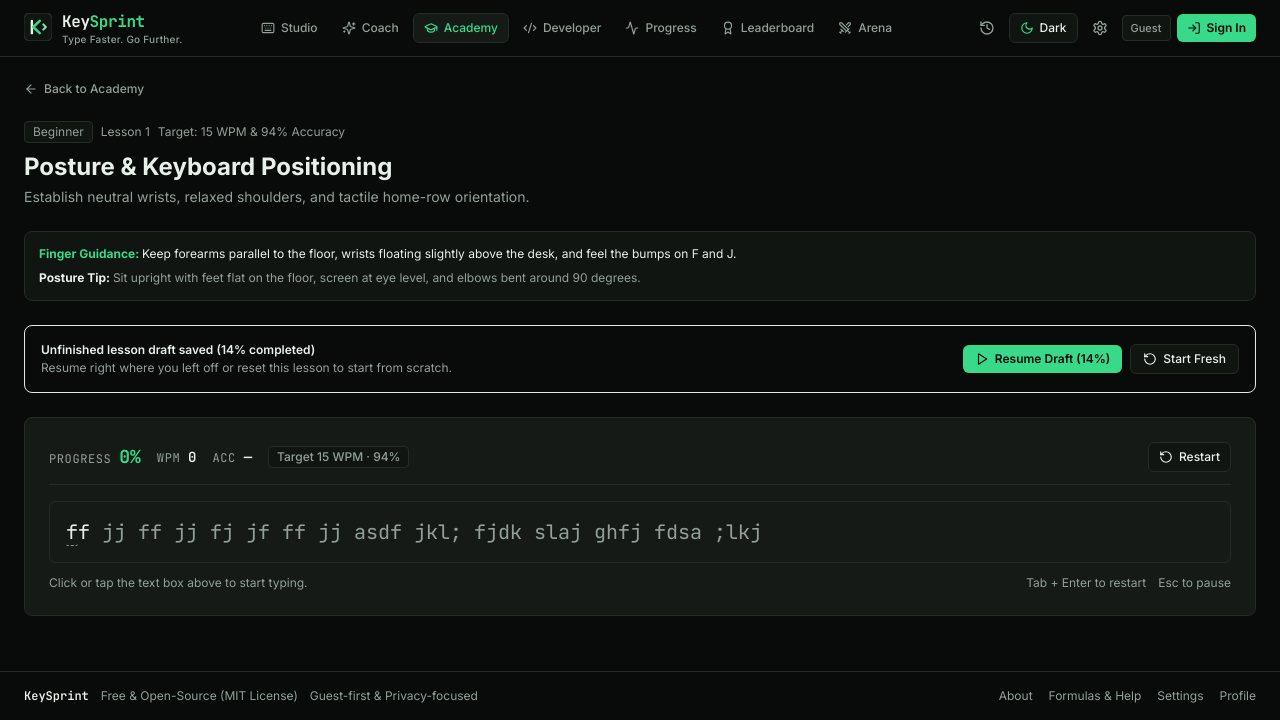
Test: Phase 4: Academy, Coach, Goals & Progress Intelligence › clears saved draft when clicking Start Fresh
Expected: the text "Unfinished lesson draft saved (14% completed)" is shown, x1=41 y1=342 x2=315 y2=357
Click the button "Start Fresh": point(1185, 359) x1=1130 y1=344 x2=1239 y2=374
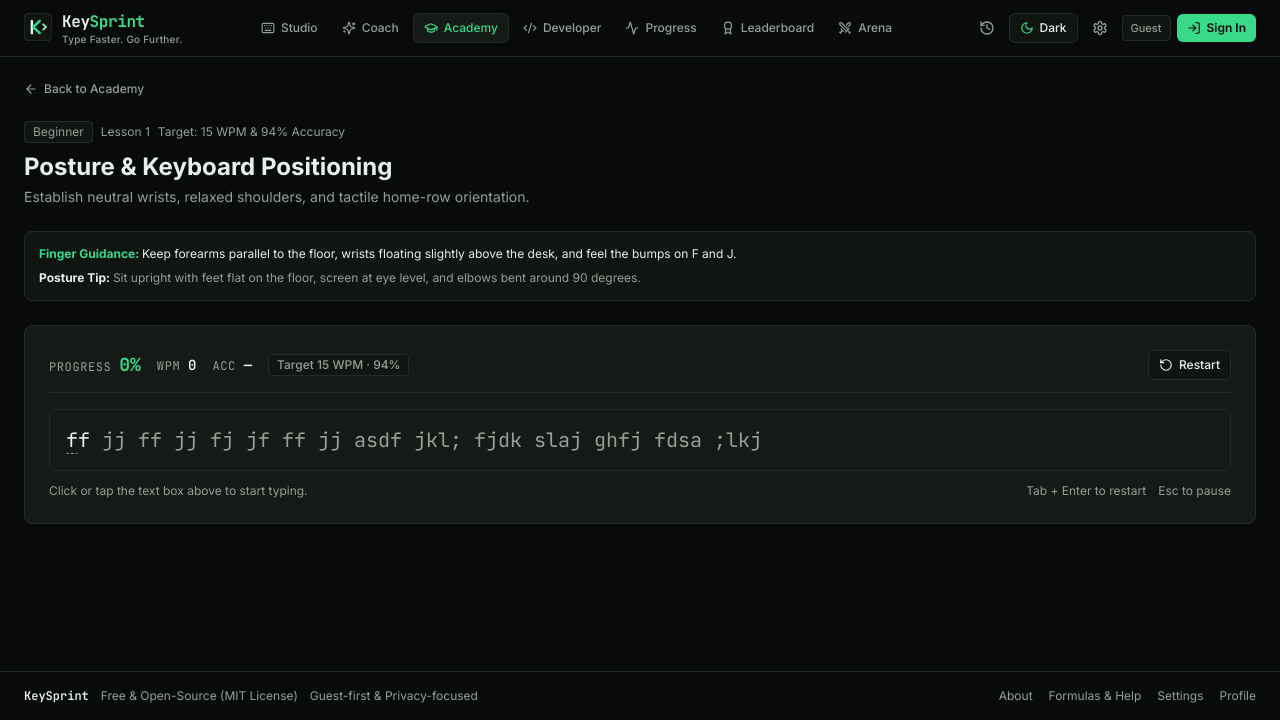
Expected: the text "0%" is shown, x1=119 y1=353 x2=141 y2=376
Now the text "Unfinished lesson draft saved" is gone
